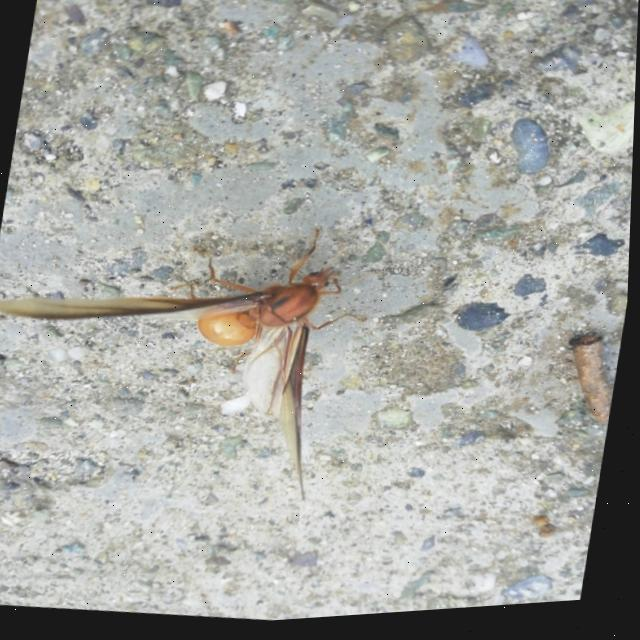Alive-Male-Alate: (0, 190, 394, 527)
